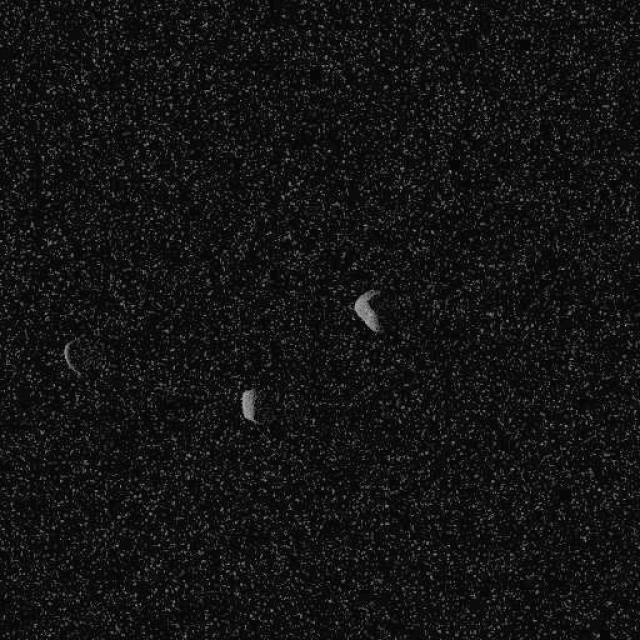D2: (352, 286, 382, 334), (62, 336, 82, 376), (238, 388, 258, 422)
